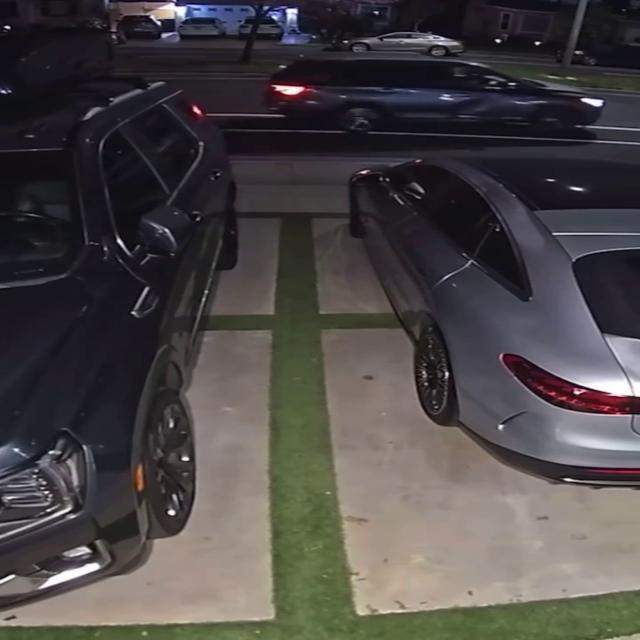Theft - Alert: (348, 150, 639, 486), (263, 34, 606, 148)
